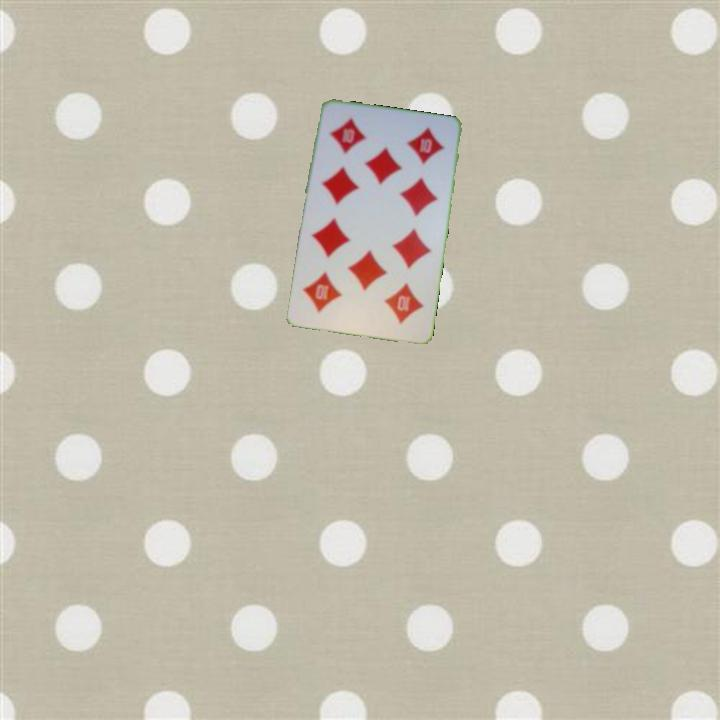d_10.png: (319, 108, 393, 174), (357, 269, 431, 335)
